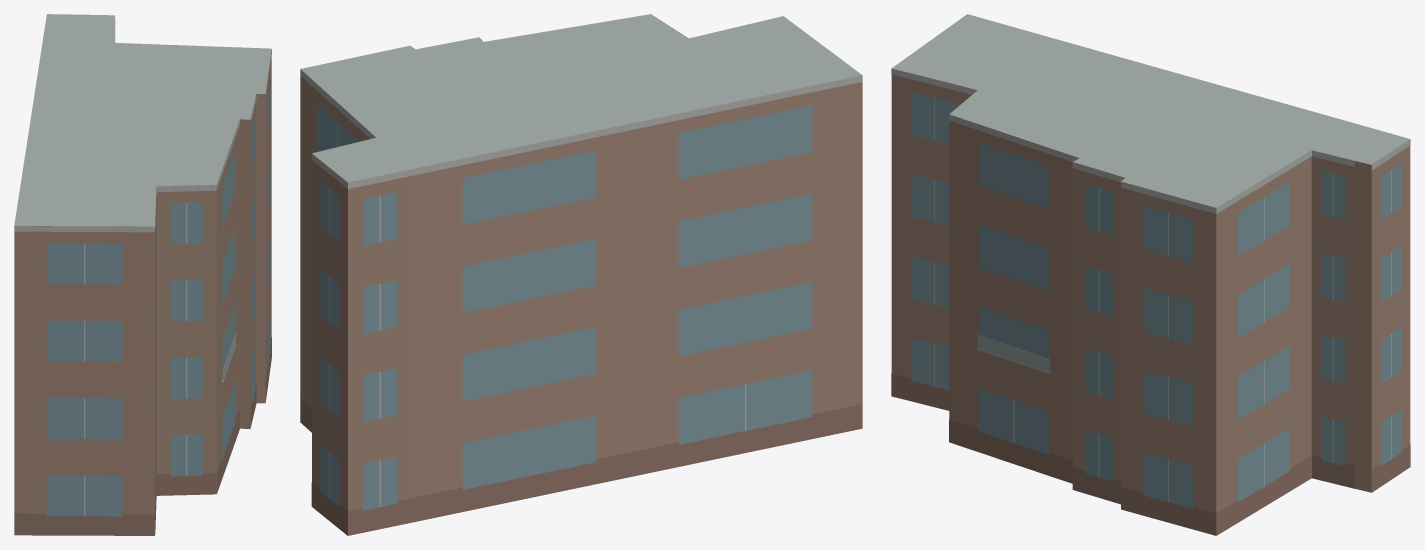
File: survey-upis-32607821.glb
3 views of the same model, side by side, from view 1: azimuth 30°, elevation 25°; view 2: azimuth 150°, elevation 25°; view 3: azimuth 270°, elevation 25° (orthographic). The views are drawn at different scales.
Visible parts, largest first — view 1: survey-upis-32607821.tmp; view 2: survey-upis-32607821.tmp; view 3: survey-upis-32607821.tmp.
Boxes of the visible parts, <box> form: survey-upis-32607821.tmp: <box>14,14,271,535</box>; survey-upis-32607821.tmp: <box>300,14,862,535</box>; survey-upis-32607821.tmp: <box>891,14,1410,535</box>.
Bounding box in the file's own units: 16.75 × 13.2 × 18.94.
